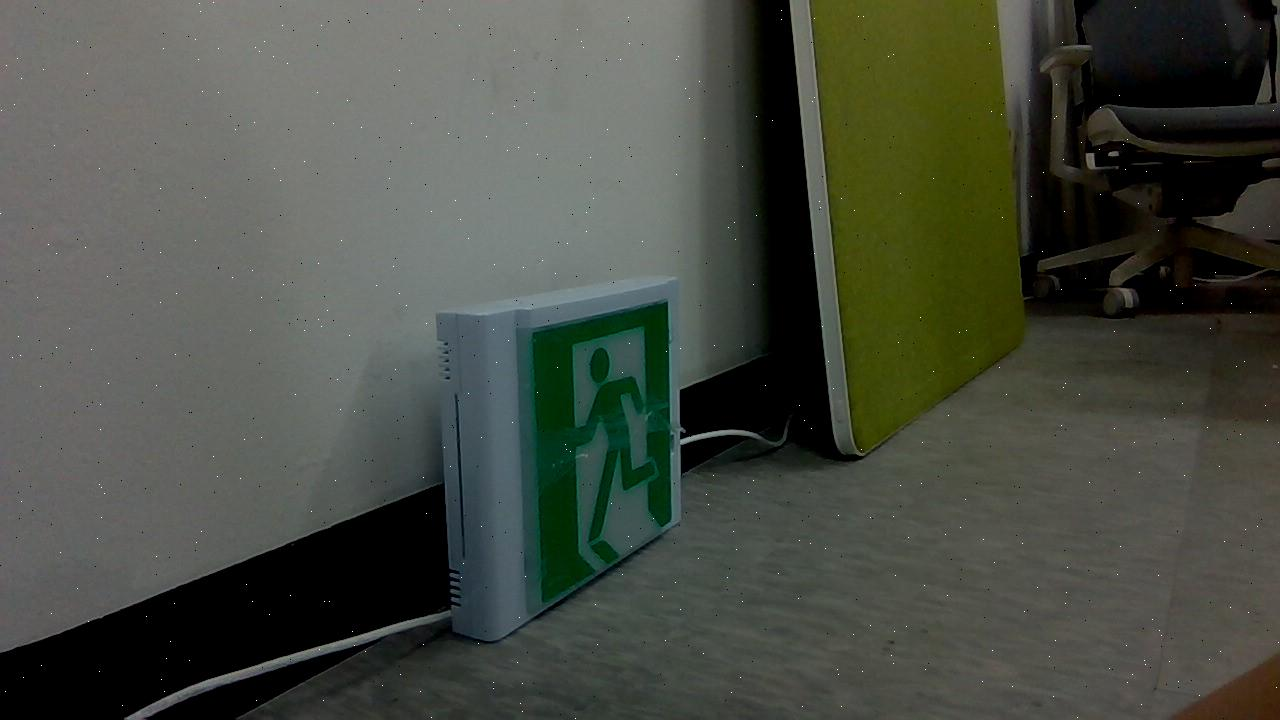emergency_exit: (435, 275, 684, 643)
